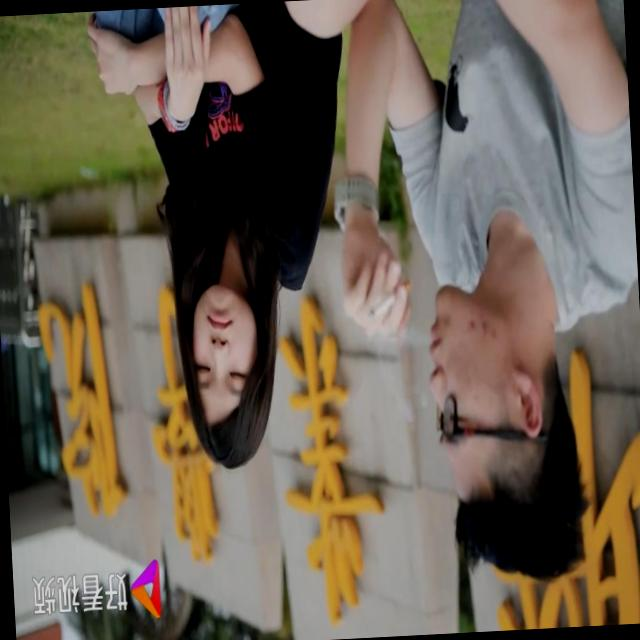smoke: (360, 273, 418, 332)
